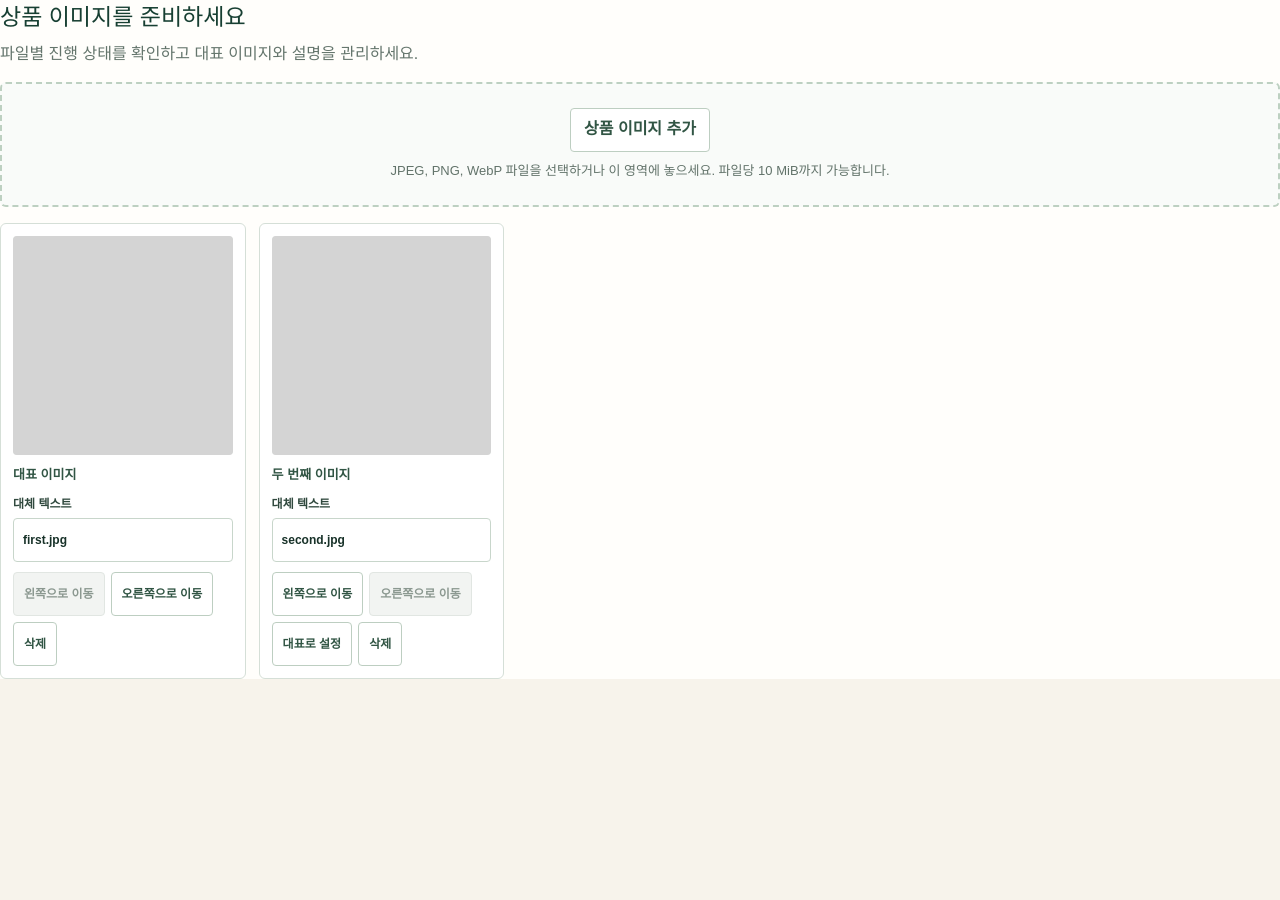
removes only the draft reference without deleting shared Storage media and promotes the next image
Later steps or results of the test are not shown.
Click the button with aria-label "첫 번째 이미지 삭제" at (35, 644), box 13,622 -> 57,666
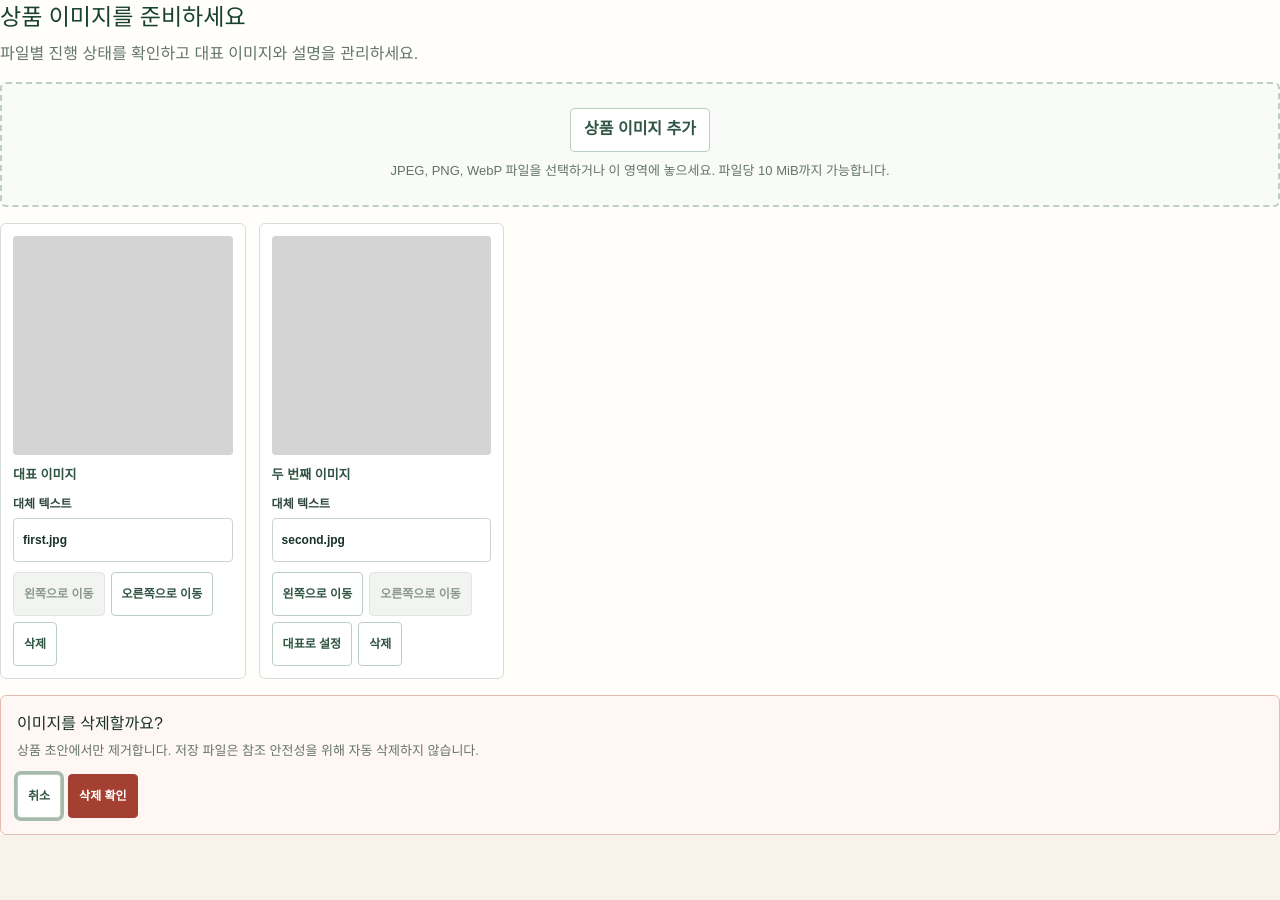
Result: the dialog shows "초안에서만 제거" at 17,743 -> 479,758
